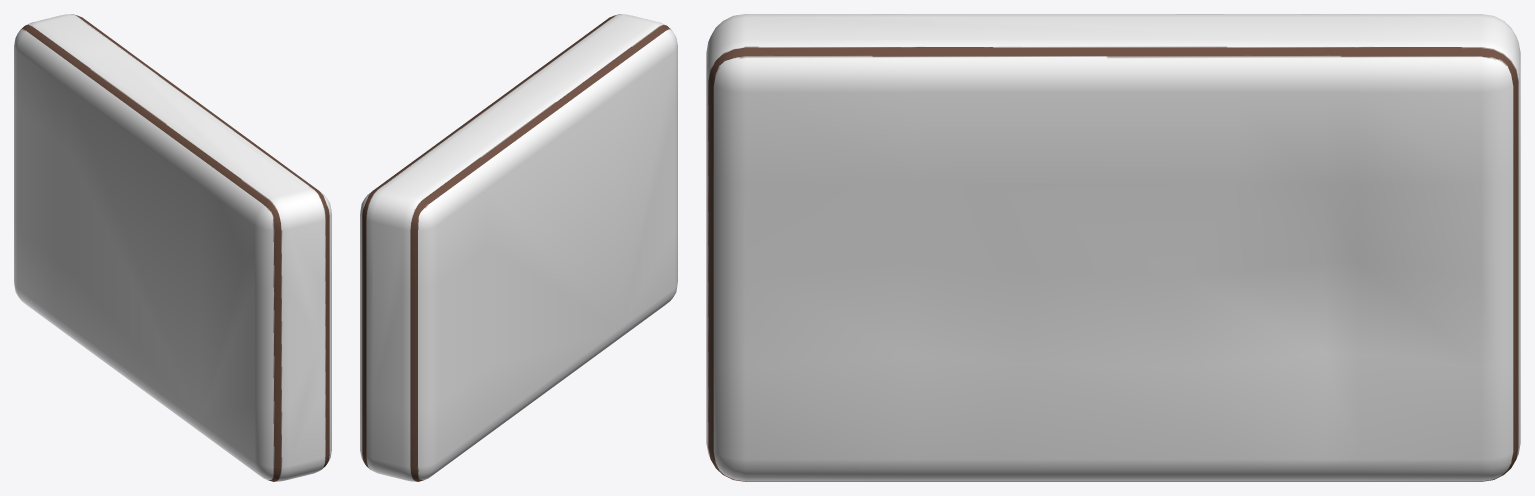
File: Pillow.fbx
3 renders of one model, left to right at view 1: azimuth 30°, elevation 25°; view 2: azimuth 150°, elevation 25°; view 3: azimuth 270°, elevation 25°, orthographic. The views are drawn at different scales.
Visible parts, largest first — view 1: Pillow; view 2: Pillow; view 3: Pillow.
Boxes of the visible parts, bbox=[...] form: Pillow: bbox=[14, 14, 331, 481]; Pillow: bbox=[360, 14, 677, 481]; Pillow: bbox=[706, 14, 1520, 481].
Bounding box in the file's own units: 0.1684 × 0.6132 × 1.03.
